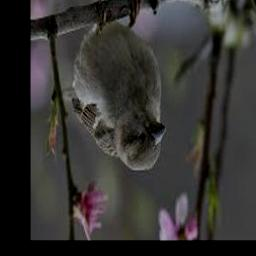Sparrow: (62, 0, 167, 172)
